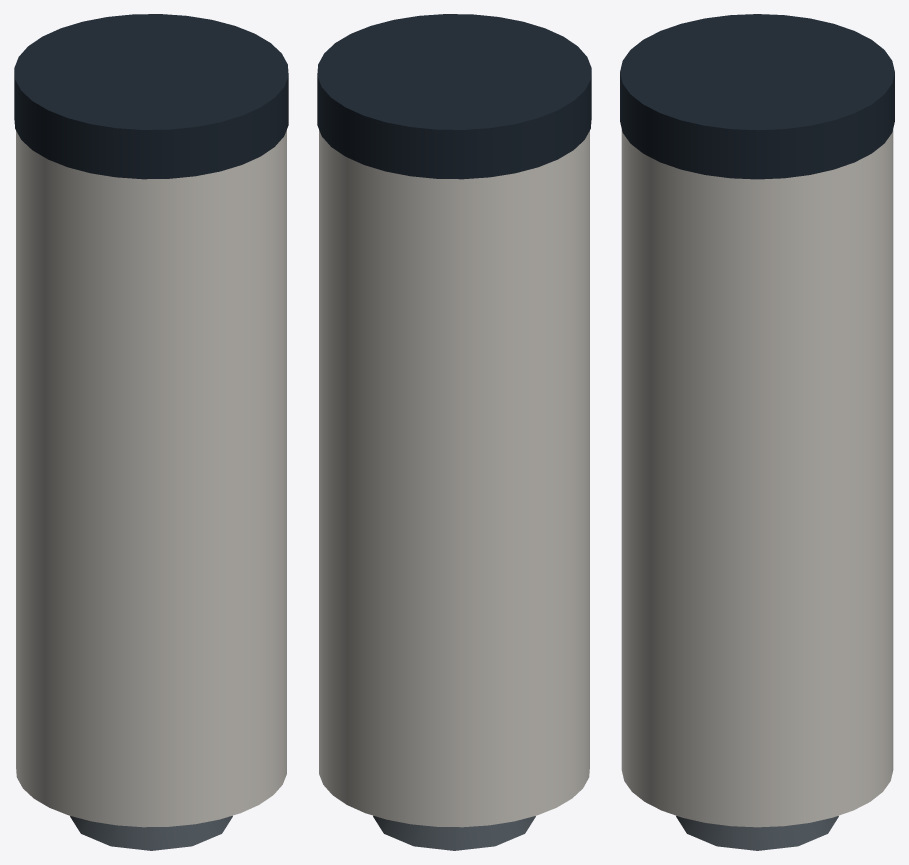
File: saturnv-stage-2.glb
The picture shows the model from 3 angles, left to right: view 1: azimuth 30°, elevation 25°; view 2: azimuth 150°, elevation 25°; view 3: azimuth 270°, elevation 25°; orthographic projection.
Parts seen in each view (by area): view 1: body-1, interstage-1, engine-1-0; view 2: body-1, interstage-1, engine-1-0; view 3: body-1, interstage-1, engine-1-0.
Part boxes in pixels (bbox=[...]): body-1: bbox=[16, 130, 286, 827]; interstage-1: bbox=[14, 14, 288, 179]; engine-1-0: bbox=[70, 815, 232, 850]; body-1: bbox=[319, 130, 589, 827]; interstage-1: bbox=[317, 14, 591, 179]; engine-1-0: bbox=[373, 815, 535, 850]; body-1: bbox=[621, 129, 893, 827]; interstage-1: bbox=[620, 14, 894, 179]; engine-1-0: bbox=[676, 816, 838, 850].
Bounding box in the file's own units: 10.18 × 30.41 × 10.18.
